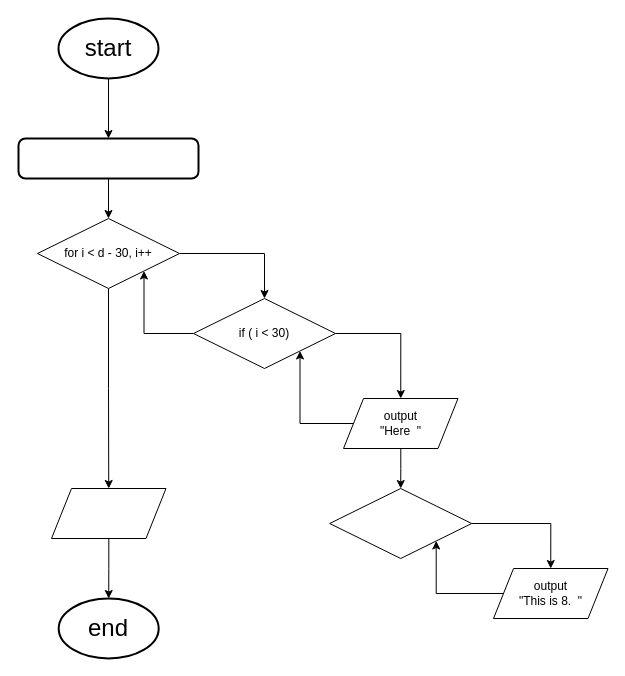
Image size: 625x676. Some labels were removed from this diagram. Here are the shapes that lost their labels. From the top down, the box of each, then its label:
(17, 137, 199, 179): a = 10, b = 20, c = 30, d = 40
(50, 488, 166, 538): output " ok "
(329, 488, 472, 558): if ( i == 8)
